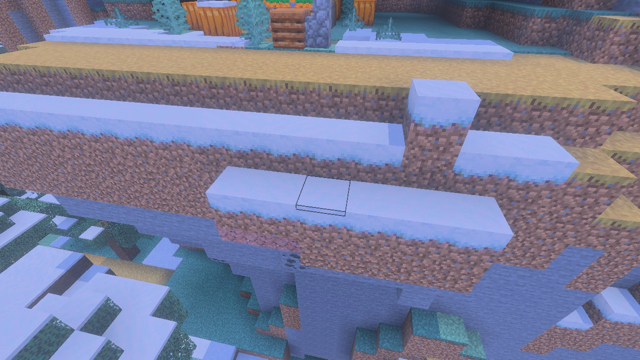coal: (278, 245, 312, 274)
